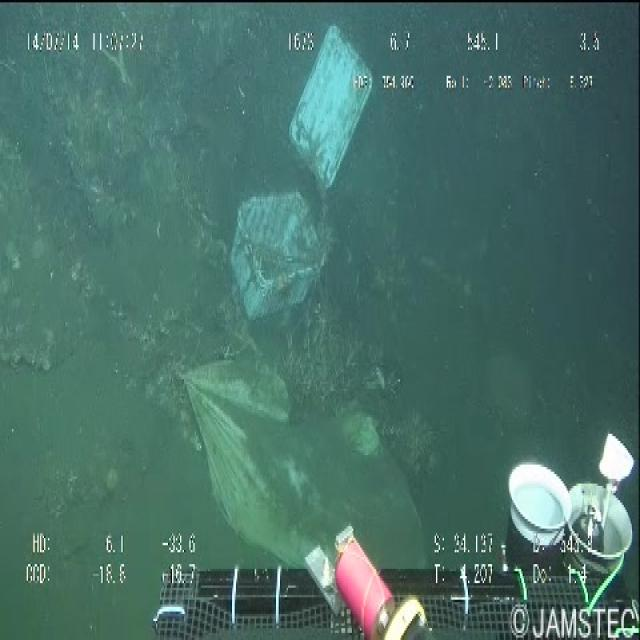plastic: (211, 17, 385, 346)
